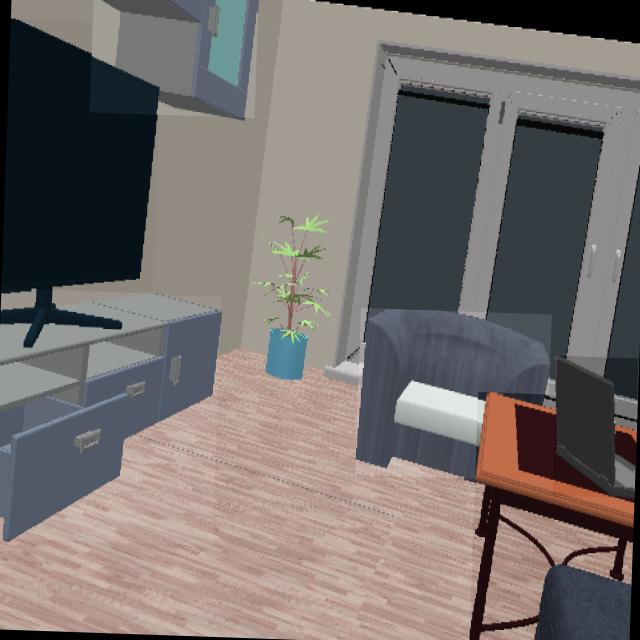cabinet: (0, 294, 220, 538), (104, 0, 257, 117)
laptop: (556, 357, 635, 498)
monitor: (0, 19, 160, 344)
sofa: (355, 309, 549, 478)
table: (469, 395, 634, 640)
